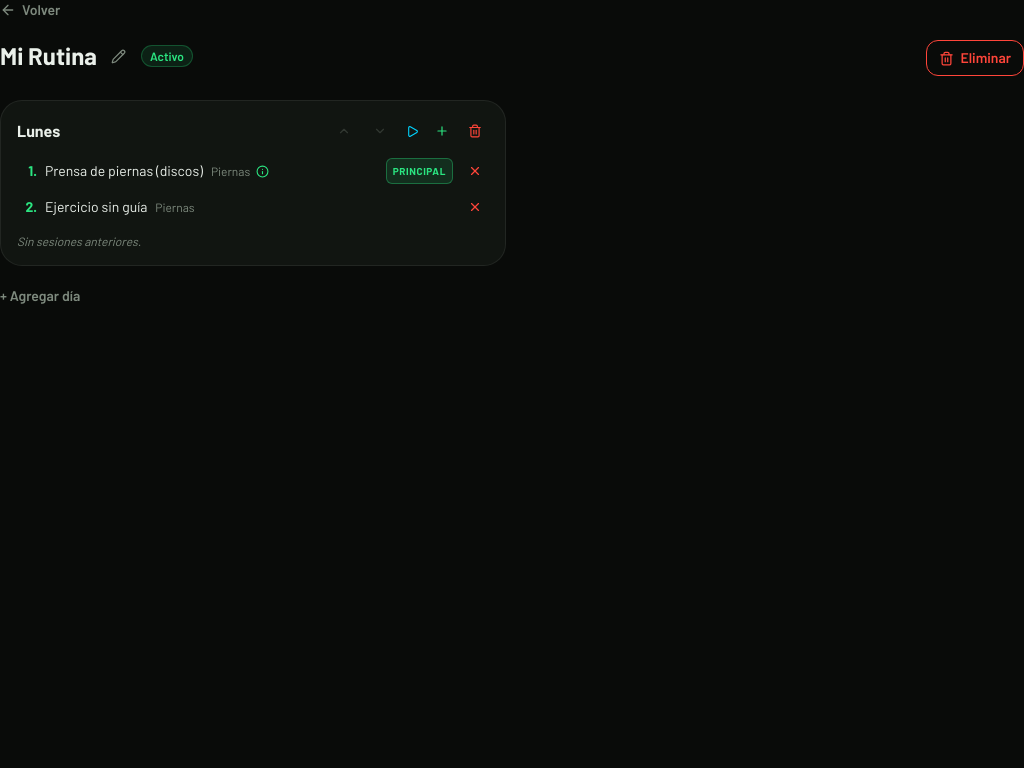
it: exercise how-to from the routine › opens the how-to sheet when tapping an exercise
Step 1. Click the button with aria-label "Cómo se hace: Prensa de piernas (discos)" → point(211, 171), box [45, 161, 378, 181]
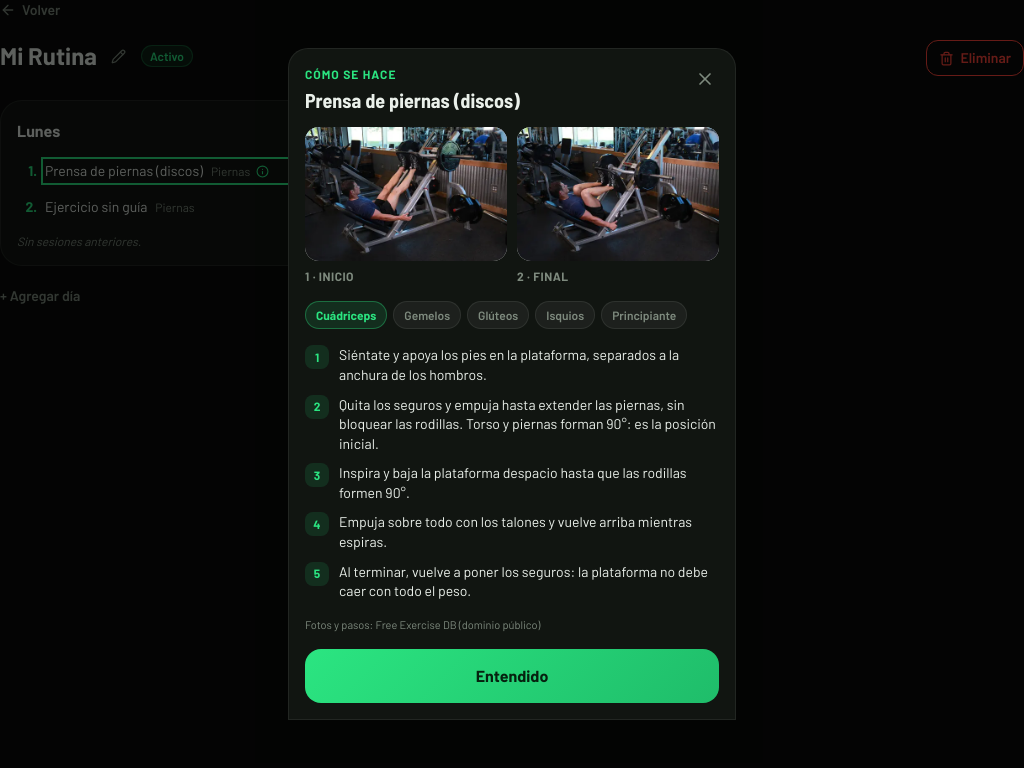
Step 2. Click the button "Entendido" → point(512, 676), box [305, 649, 719, 703]
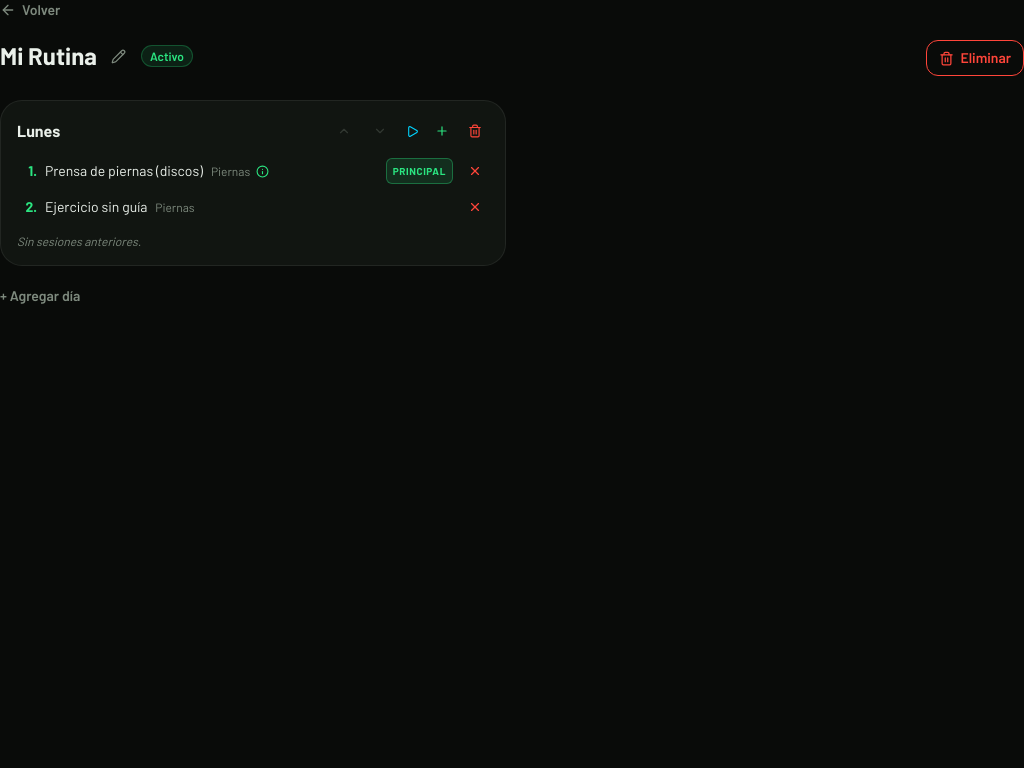
expect the dialog is gone: met
